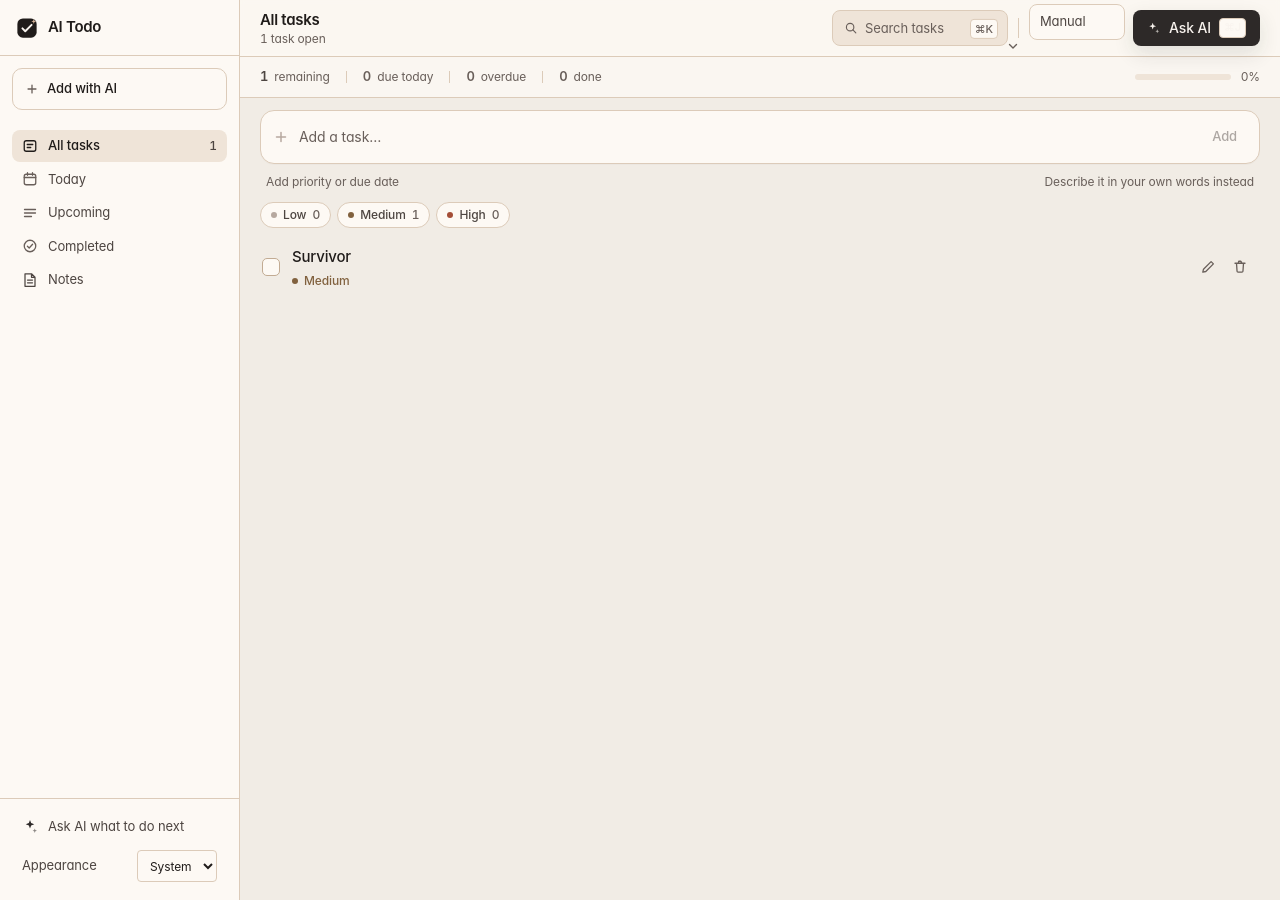
Scenario: delete a task › closes the editor without deleting when cancelled
Click the button named "Open details for \"Survivor\"": (321, 256) 292,246 -> 1180,267
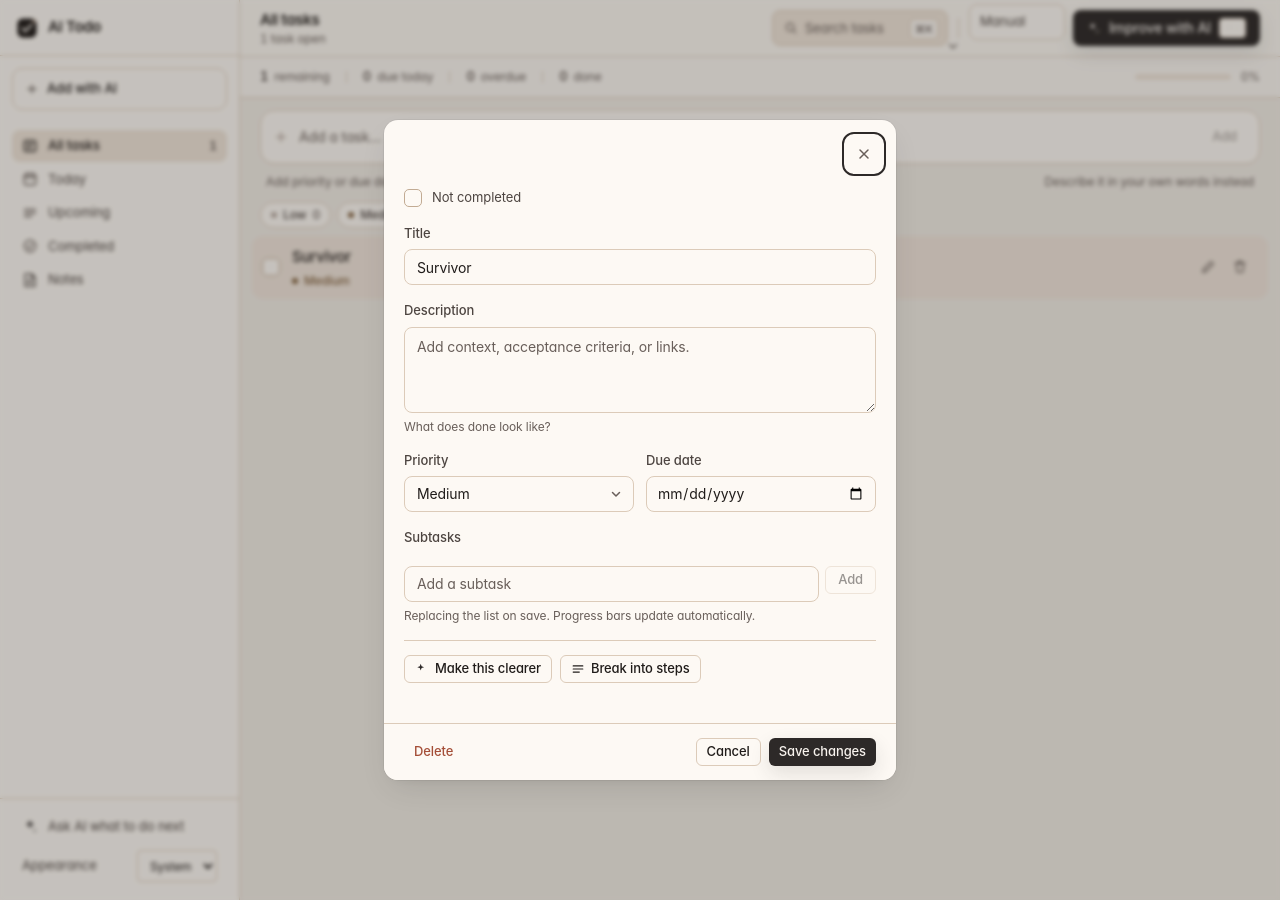
Click the button "Cancel": (728, 752) 696,738 -> 761,766
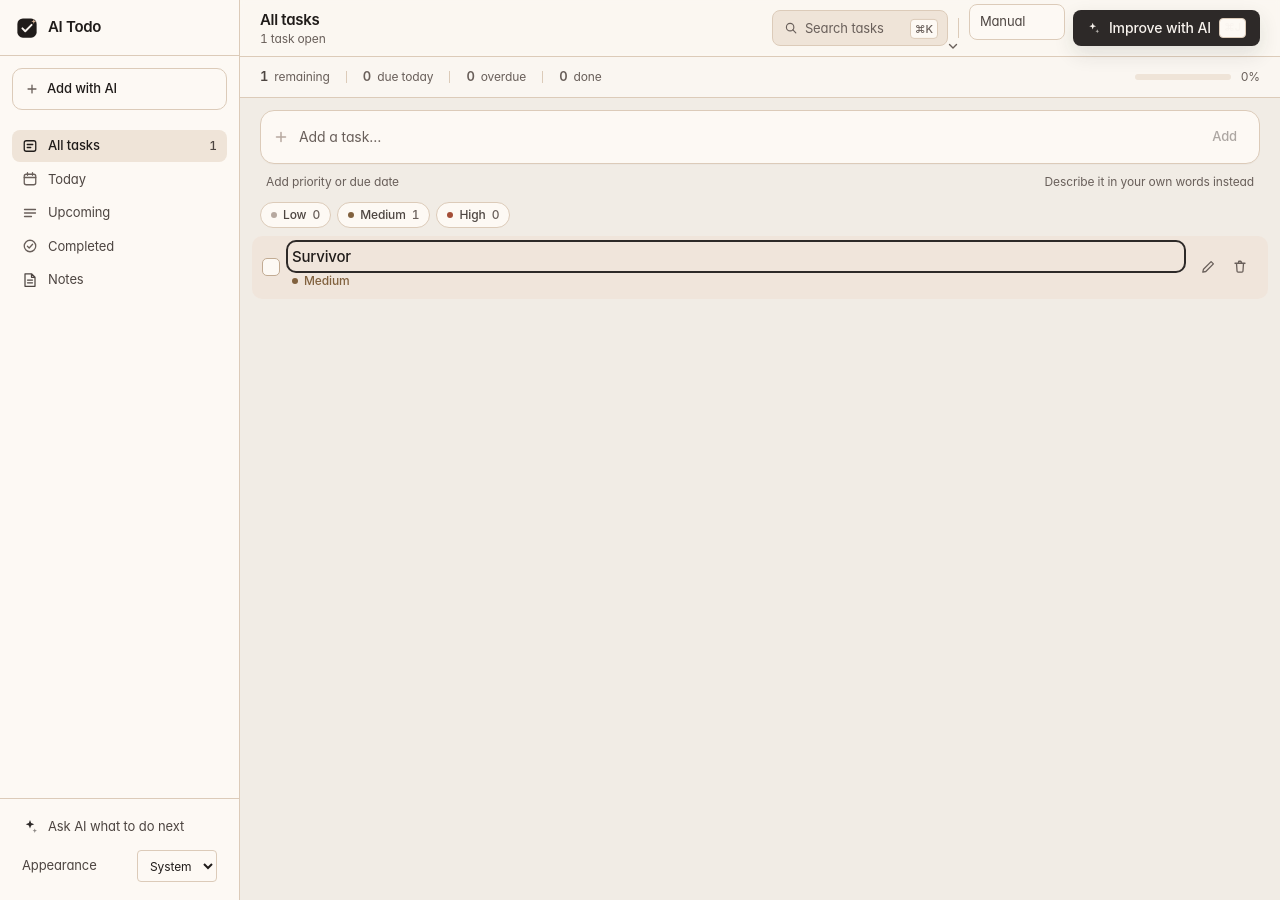
Expected: the text "Survivor" is shown, 292,246 -> 351,266
Now the dialog is gone
